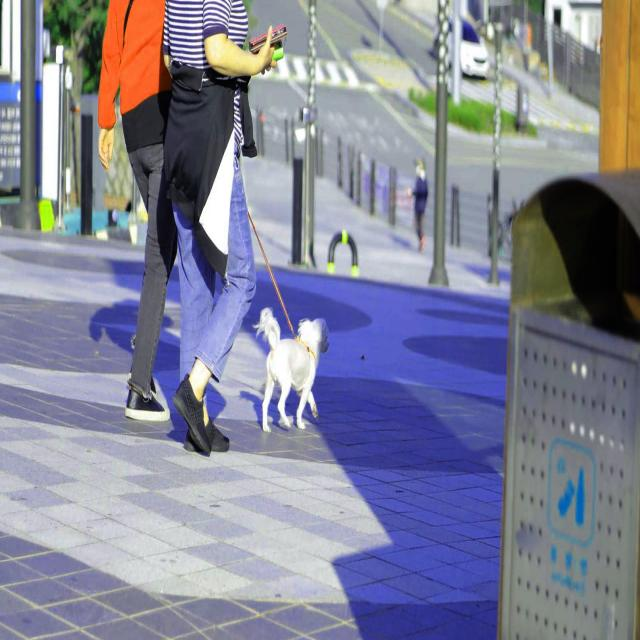Leashed_Dog: (204, 149, 331, 432)
